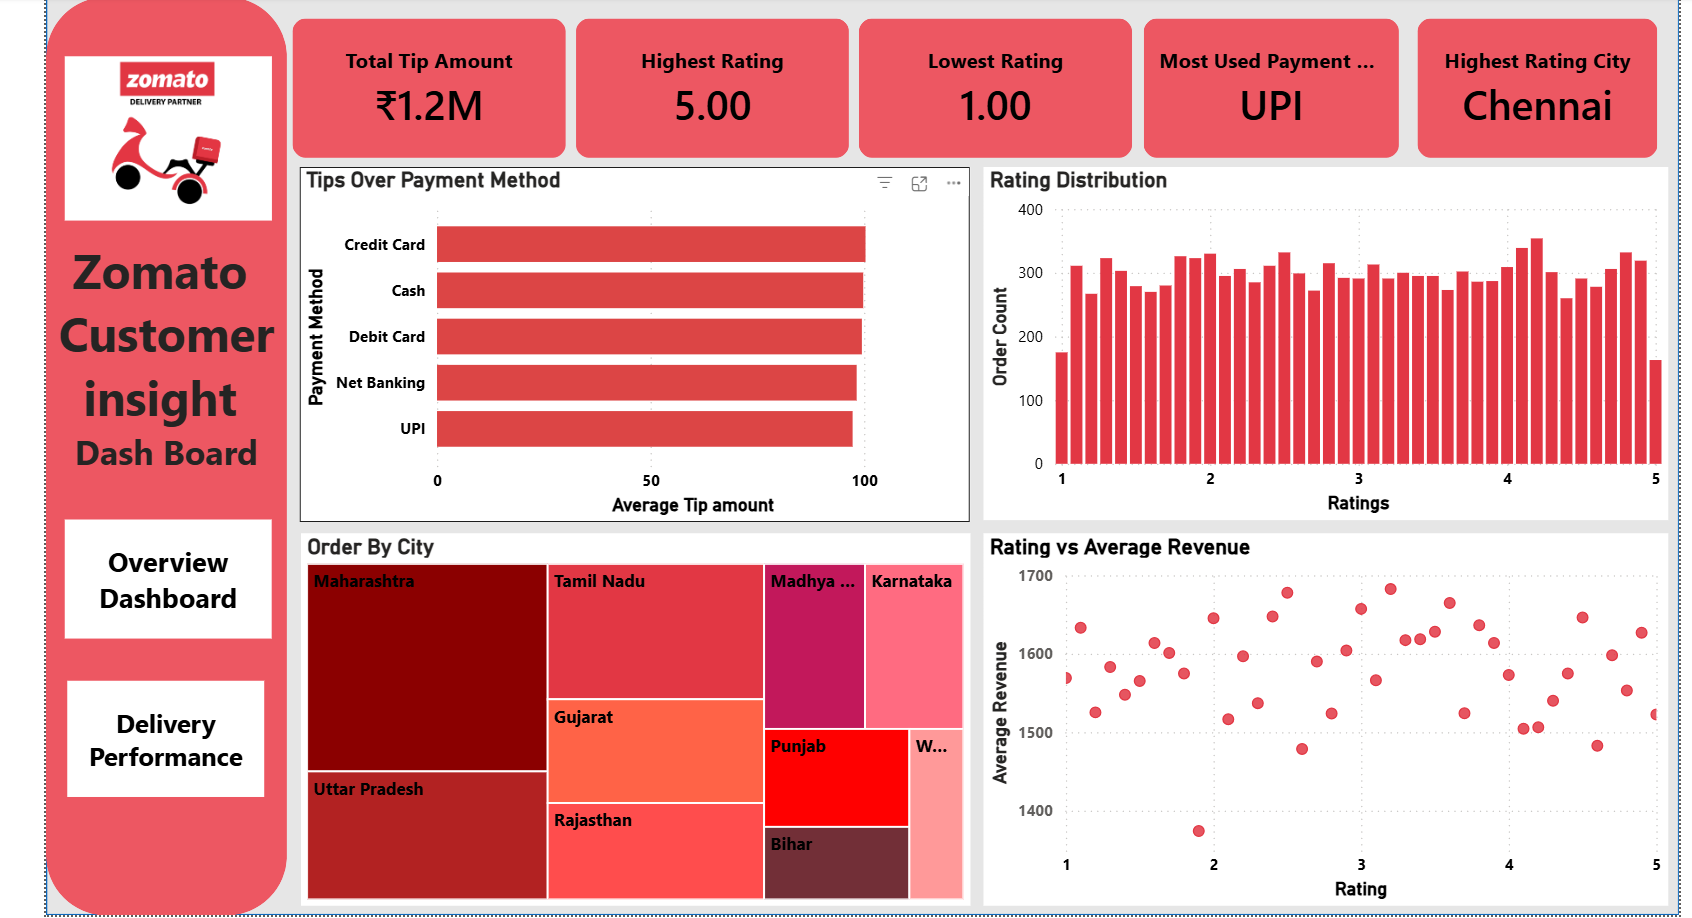

The page's visual inventory and layout, read from the dashboard file:
{"tool":"powerbi","page":{"name":"customer insight","canvas":[1280,720],"ordinal":1},"visuals":[{"type":"shape","box":[0,0,1280.2,719.8],"z":0},{"type":"shape","box":[0,0,189,720],"z":1000},{"type":"textbox","box":[0,184.4,188.9,217.8],"z":2000},{"type":"image","box":[14.4,26.7,162.2,168.9],"z":3000},{"type":"cardVisual","fields":{"Data":["Region.Total Tip Amount","Region.Highest Rating","Region.Lowest Rating"]},"box":[176.7,0,694.4,143.3],"z":4000},{"type":"cardVisual","fields":{"Data":["Min(Zomata_delivery_data.Payment Method)"]},"box":[843.3,0,234.4,143.3],"z":5000},{"type":"cardVisual","fields":{"Data":["Min(Zomata_delivery_data.city)"]},"box":[1057.8,0,222.2,143.3],"z":6000},{"type":"clusteredBarChart","title":"Tips Over Payment Method","fields":{"Category":["Zomata_delivery_data.Payment Method"],"Y":["Avg(Zomata_delivery_data.Tip Amount (INR))"]},"box":[198.9,133.3,525.6,277.8],"z":7000},{"type":"treemap","title":"Order By City","fields":{"Values":["Sum(Zomata_delivery_data.Order Amount (INR))"],"Group":["Zomata_delivery_data.state"]},"box":[200,420,524.4,292.2],"z":8000},{"type":"clusteredColumnChart","title":"Rating Distribution","fields":{"Category":["Zomata_delivery_data.Rating"],"Y":["CountNonNull(Zomata_delivery_data.Order ID)"]},"box":[734.4,133.3,536.7,276.7],"z":9000},{"type":"scatterChart","title":"Rating vs Average Revenue","fields":{"Y":["Avg(Zomata_delivery_data.Order Amount (INR))"],"X":["Zomata_delivery_data.Rating"]},"box":[734.4,420,536.7,292.2],"z":10000},{"type":"actionButton","box":[14.4,410,162.2,93.3],"z":11000},{"type":"actionButton","title":"Customer Insight","box":[16.7,535.6,154.4,91.1],"z":12000}]}

Visuals, with their boxes on the page's 1280x720 design canvas (x1, y1, x2, y2). These are canvas units, not pixel positions in the 1692x918 screenshot, which may show the page scaled, cropped or inside an application window:
shape: l=0, t=0, r=1280, b=720
shape: l=0, t=0, r=189, b=720
textbox: l=0, t=184, r=189, b=402
image: l=14, t=27, r=177, b=196
cardVisual - Region.Total Tip Amount x Region.Highest Rating: l=177, t=0, r=871, b=143
cardVisual - Min(Zomata_delivery_data.Payment Method): l=843, t=0, r=1078, b=143
cardVisual - Min(Zomata_delivery_data.city): l=1058, t=0, r=1280, b=143
"Tips Over Payment Method" clusteredBarChart: l=199, t=133, r=724, b=411
"Order By City" treemap: l=200, t=420, r=724, b=712
"Rating Distribution" clusteredColumnChart: l=734, t=133, r=1271, b=410
"Rating vs Average Revenue" scatterChart: l=734, t=420, r=1271, b=712
actionButton: l=14, t=410, r=177, b=503
"Customer Insight" actionButton: l=17, t=536, r=171, b=627
